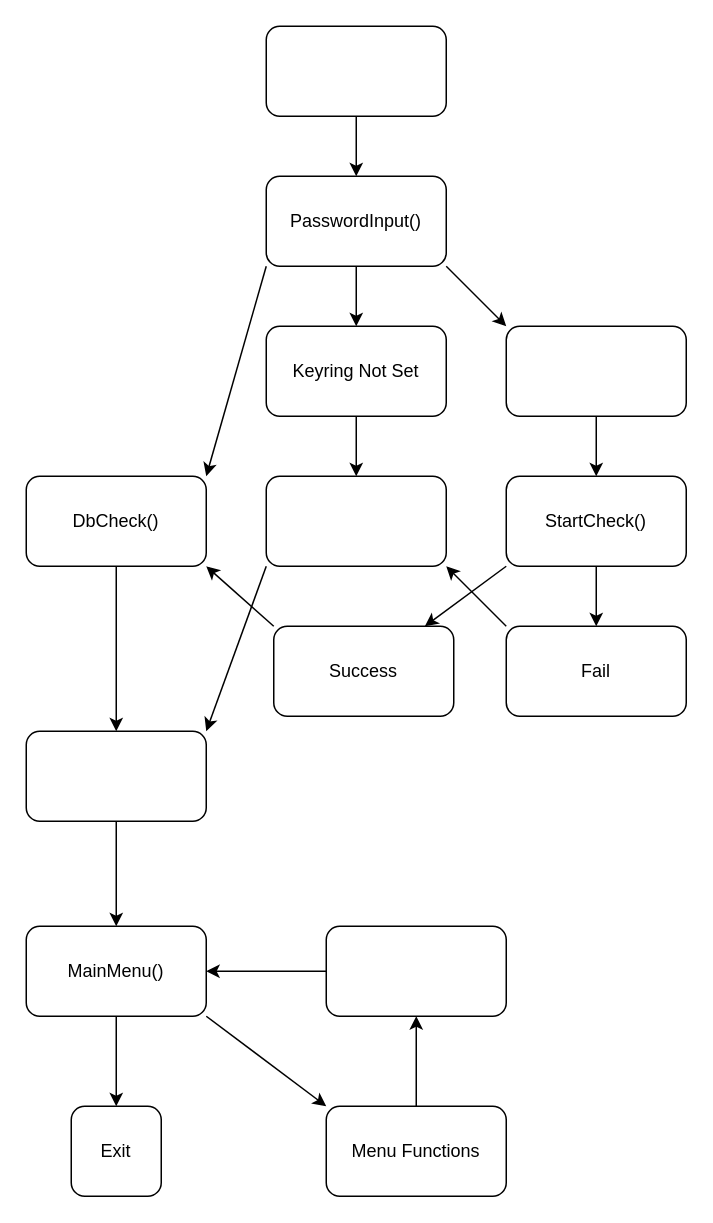
The diagram is 713 pixels wide and 1223 high, and some of its shapes have lost their labels. The box of each missing label's shape, as (x1, y1, x2, y2) in pixels:
__main__: (265, 25, 446, 116)
ComponentHandler(): (265, 475, 446, 566)
Components Missing: (505, 325, 686, 416)
Successful Login: (25, 730, 206, 821)
Unknown Exception: (325, 925, 506, 1016)
